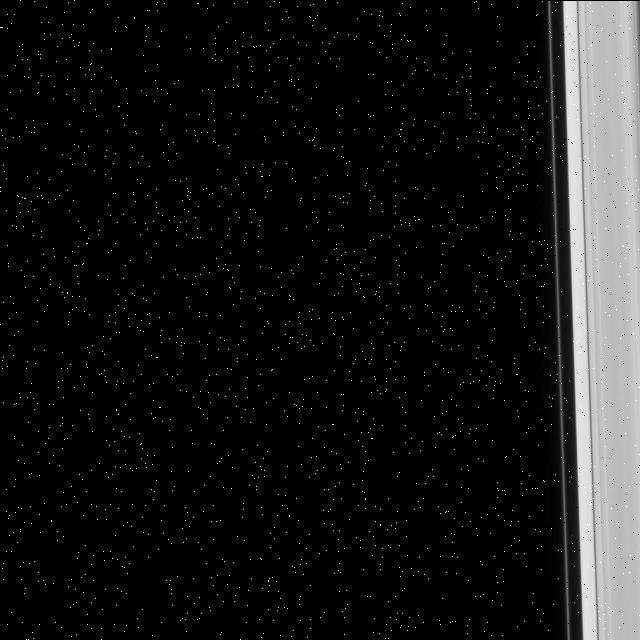Saturn: (546, 0, 640, 640)
